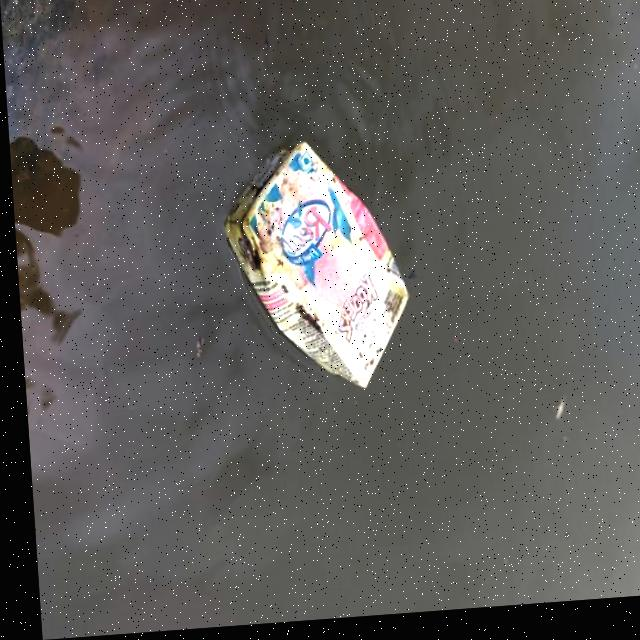paper: (218, 130, 416, 414)
